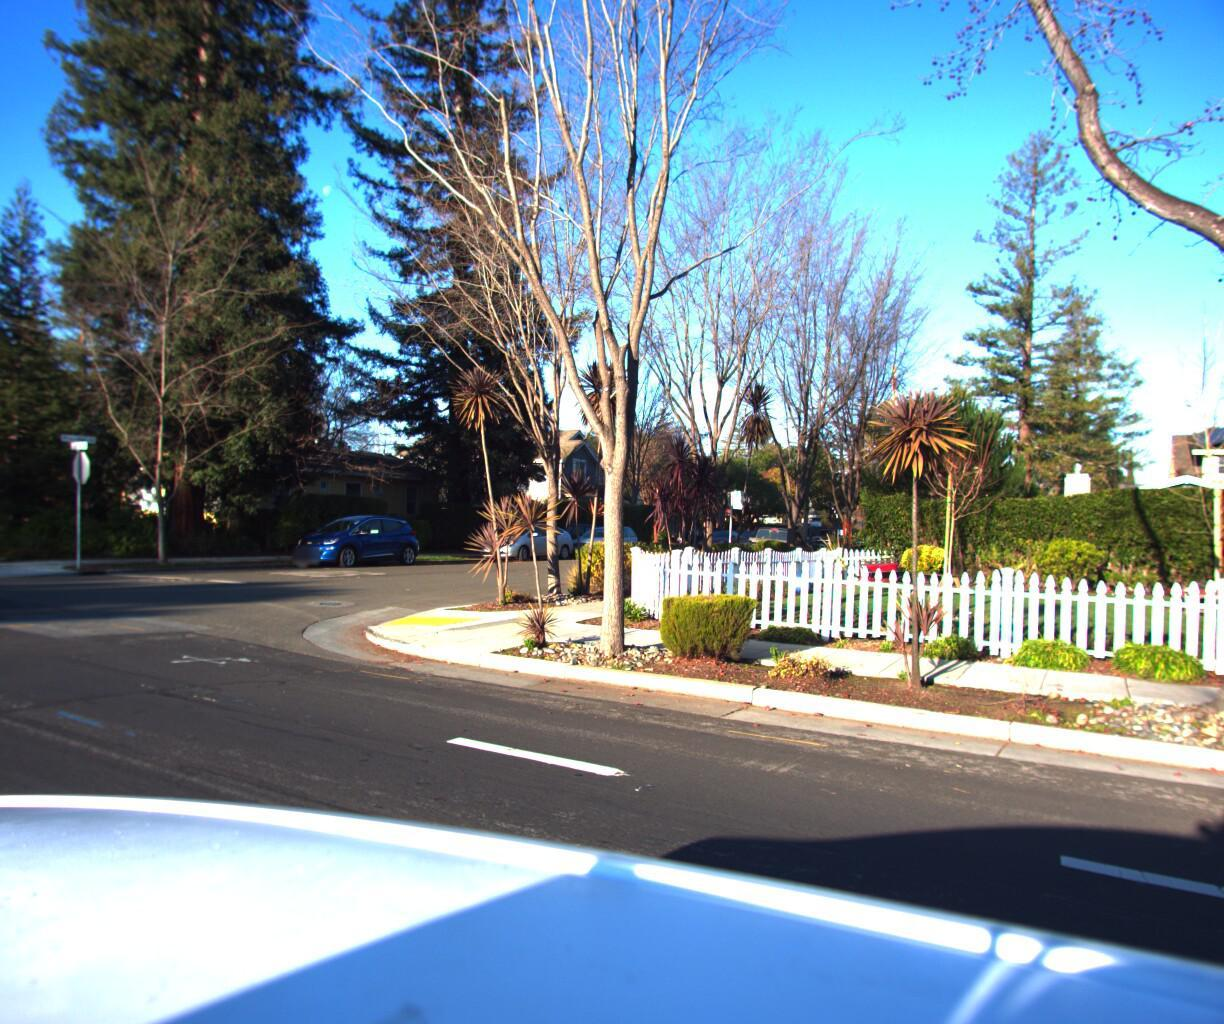car: (282, 505, 428, 563), (729, 518, 824, 567), (471, 514, 579, 557), (560, 517, 646, 555), (695, 523, 751, 548), (730, 523, 781, 547), (811, 523, 851, 543)
